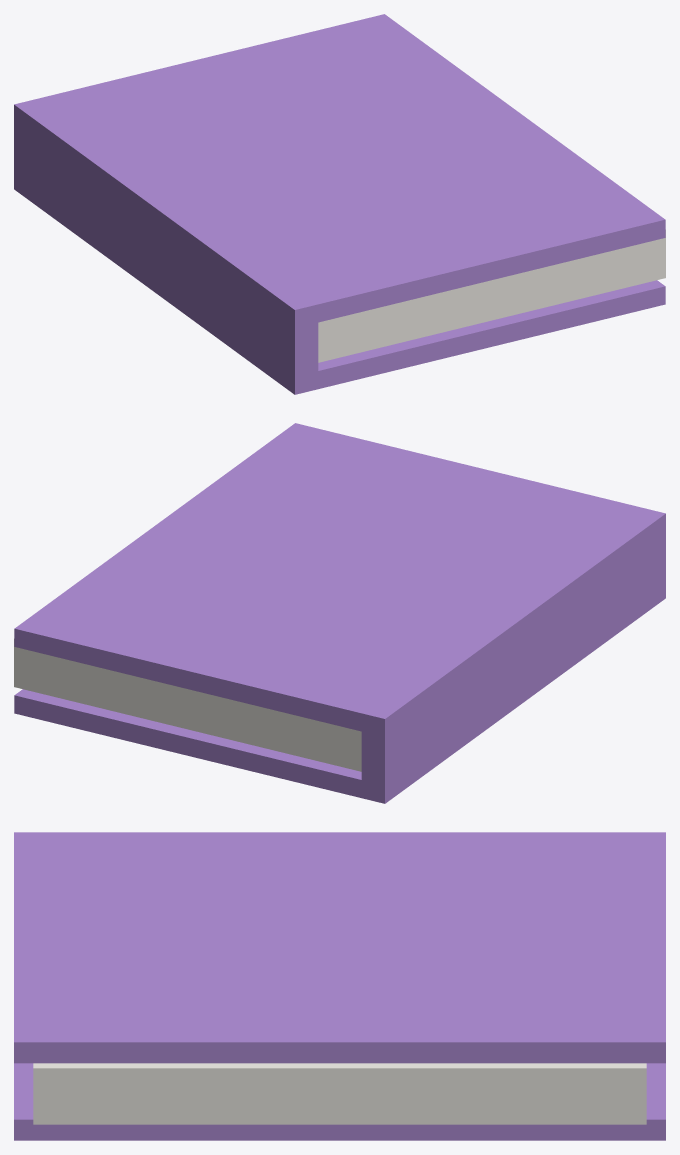
Rendered from deco_book.obj.
3 renders of one model, top to bottom at view 1: azimuth 30°, elevation 25°; view 2: azimuth 150°, elevation 25°; view 3: azimuth 270°, elevation 25°, orthographic. The views are drawn at different scales.
Visible parts, largest first — view 1: deco_book; view 2: deco_book; view 3: deco_book.
Part boxes in pixels (box(x1,y1,x2,y2)): deco_book: box(14, 14, 665, 394); deco_book: box(14, 423, 665, 803); deco_book: box(14, 832, 665, 1140).
Size of the model in its own units: 0.0328 by 0.007 by 0.042.
1 material, 1 textured.
